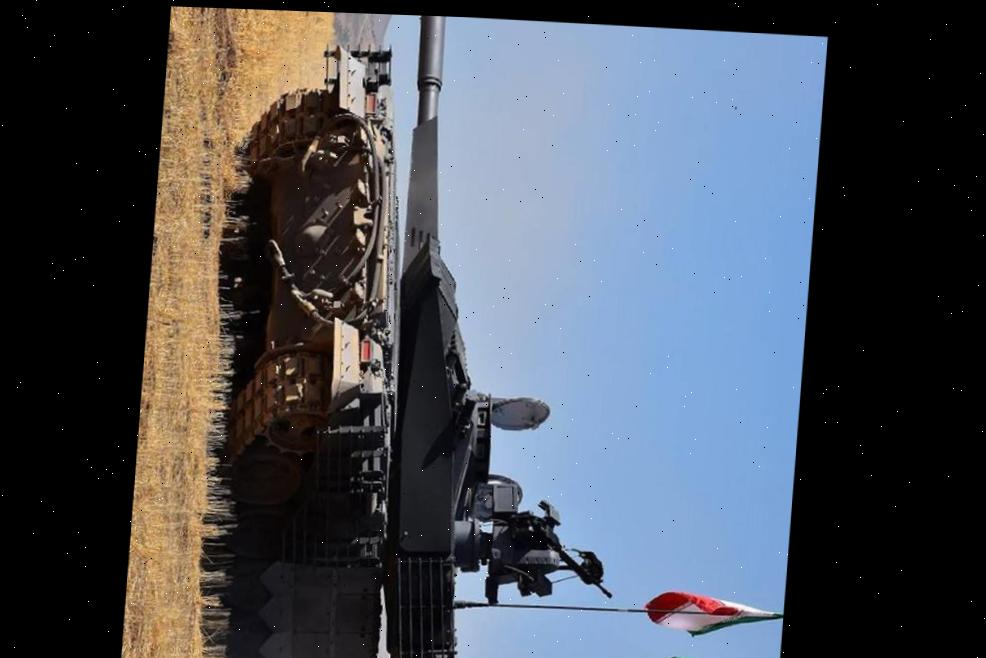tank: (188, 8, 658, 658)
